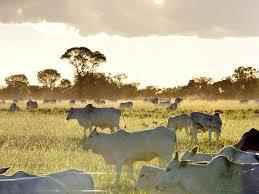cow: (82, 127, 178, 183), (155, 150, 259, 194), (0, 164, 95, 194), (65, 104, 127, 138), (0, 175, 67, 194), (190, 111, 224, 145), (131, 164, 167, 194), (166, 112, 193, 137)
